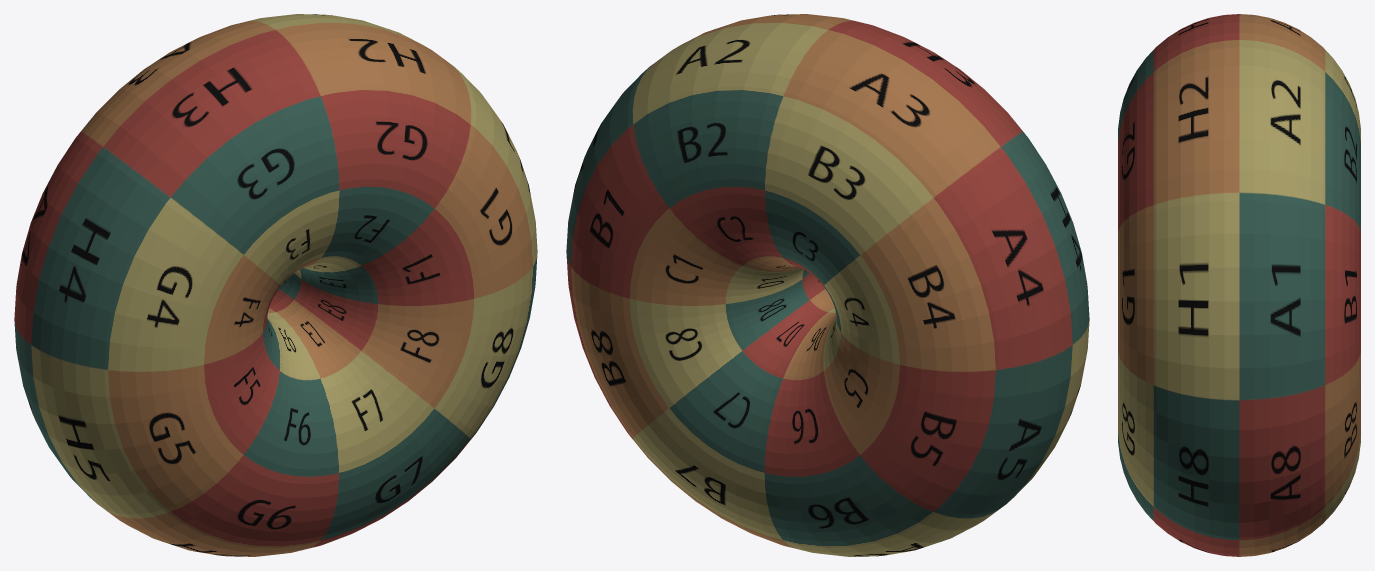
File: texture_torus_R3_r29.glb
3 views of the same model, side by side, from view 1: azimuth 30°, elevation 25°; view 2: azimuth 150°, elevation 25°; view 3: azimuth 270°, elevation 25° (orthographic). The views are drawn at different scales.
Visible parts, largest first — view 1: world; view 2: world; view 3: world.
Boxes of the visible parts, left/top/right/bottom form: world: left=14, top=14, right=537, bottom=556; world: left=566, top=14, right=1089, bottom=556; world: left=1118, top=14, right=1360, bottom=556.
Bounding box in the file's own units: 21.73 × 21.69 × 9.71.
1 material, 1 textured.
